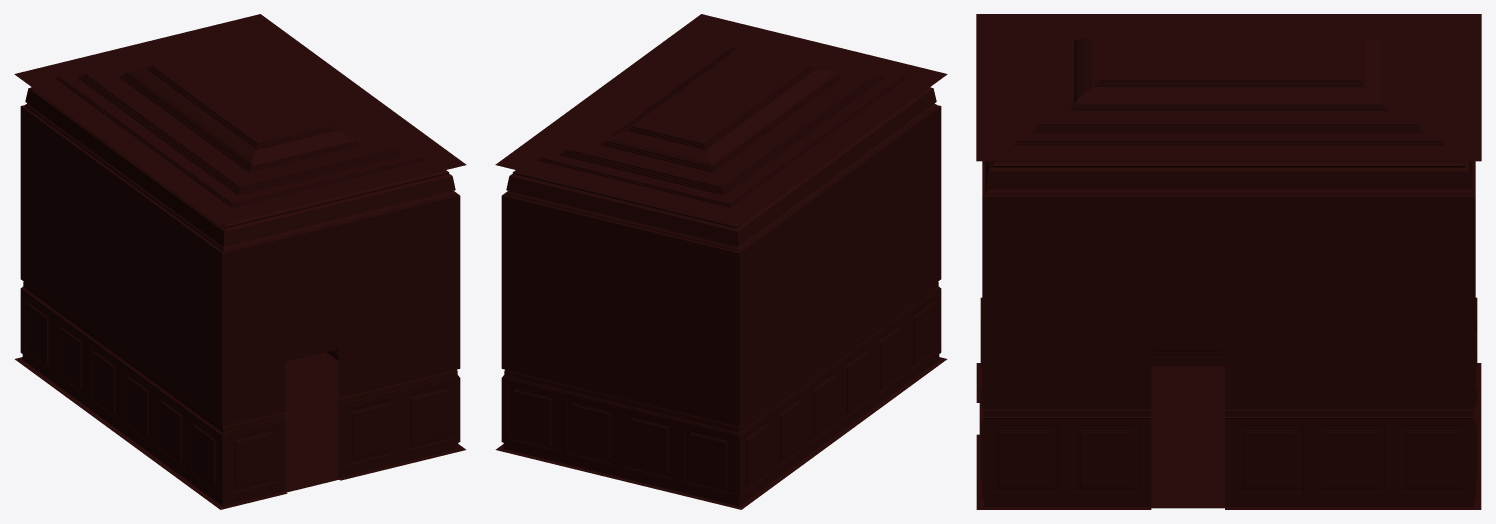
Rendered from 2door_5.FBX.
3 views of the same model, side by side, from view 1: azimuth 30°, elevation 25°; view 2: azimuth 150°, elevation 25°; view 3: azimuth 270°, elevation 25° (orthographic). The views are drawn at different scales.
Parts seen in each view (by area): view 1: wall, ceiling, floor; view 2: wall, ceiling, floor; view 3: wall, ceiling, floor.
Boxes of the visible parts, box(x1,y1,x2,y2) form: wall: box(14, 14, 466, 509); ceiling: box(16, 24, 464, 224); floor: box(19, 352, 461, 508); wall: box(495, 14, 947, 509); ceiling: box(497, 24, 945, 224); floor: box(500, 358, 942, 508); wall: box(976, 14, 1481, 509); ceiling: box(976, 14, 1481, 161); floor: box(979, 364, 1478, 508).
Size of the model in its own units: 160 by 232 by 192.
